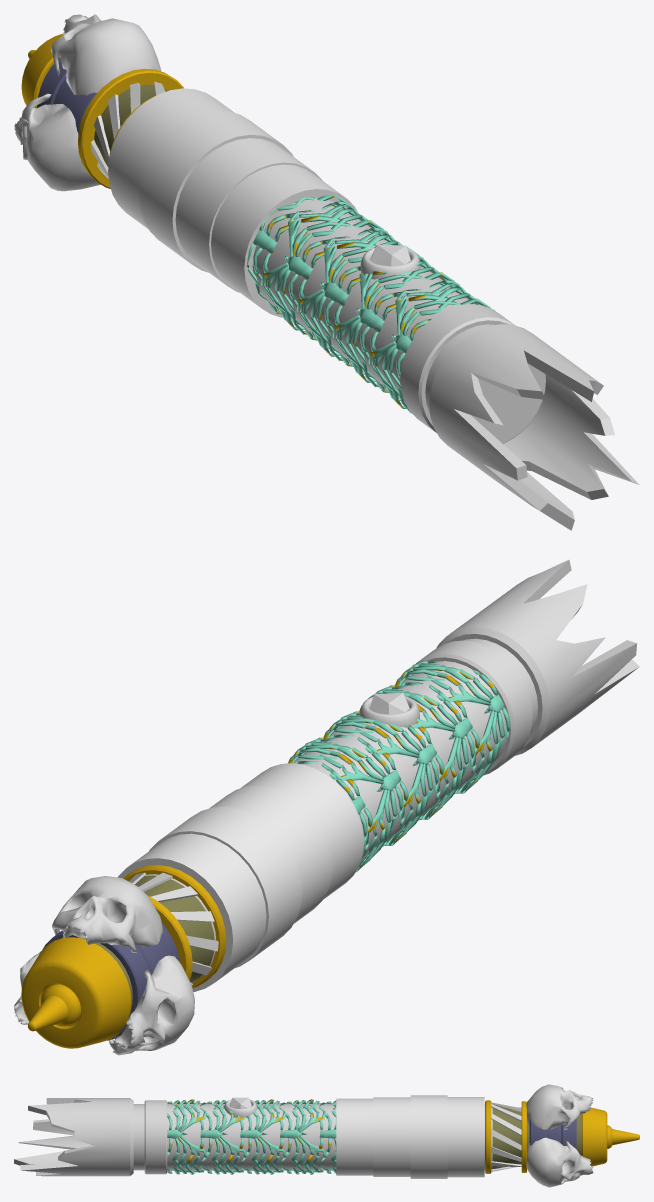
File: Netherblade.fbx
3 renders of one model, top to bottom at view 1: azimuth 30°, elevation 25°; view 2: azimuth 150°, elevation 25°; view 3: azimuth 270°, elevation 25°, orthographic. The views are drawn at different scales.
Parts seen in each view (by area): view 1: Cylinder, Cylinder.001, uploads_files_3260637_Ribcage_Retopology, Hilt Base, Skull_5_CM_skull_5, Pommel Base, Pommel Strips, Torus, Icosphere; view 2: Cylinder, Cylinder.001, Pommel Base, uploads_files_3260637_Ribcage_Retopology, Skull_5_CM_skull_5, Hilt Base, Pommel Strips, Torus, Icosphere; view 3: Cylinder, Cylinder.001, Hilt Base, uploads_files_3260637_Ribcage_Retopology, Pommel Base, Skull_5_CM_skull_5, Pommel Strips, Torus, Icosphere.
Part boxes in pixels (<box>): Cylinder: <box>108,88,357,317</box>; Cylinder.001: <box>400,304,639,530</box>; uploads_files_3260637_Ribcage_Retopology: <box>246,194,494,413</box>; Hilt Base: <box>252,198,545,443</box>; Skull_5_CM_skull_5: <box>14,14,161,191</box>; Pommel Base: <box>21,33,183,188</box>; Pommel Strips: <box>91,81,165,178</box>; Torus: <box>360,247,420,279</box>; Icosphere: <box>370,244,410,266</box>; Cylinder: <box>117,763,363,991</box>; Cylinder.001: <box>416,560,639,775</box>; Pommel Base: <box>21,865,226,1048</box>; uploads_files_3260637_Ribcage_Retopology: <box>287,660,510,872</box>; Skull_5_CM_skull_5: <box>14,876,194,1055</box>; Hilt Base: <box>144,638,537,982</box>; Pommel Strips: <box>129,872,218,985</box>; Torus: <box>359,696,419,727</box>; Icosphere: <box>369,692,409,714</box>; Cylinder: <box>336,1095,484,1178</box>; Cylinder.001: <box>14,1098,167,1176</box>; Hilt Base: <box>133,1104,492,1170</box>; uploads_files_3260637_Ribcage_Retopology: <box>167,1099,336,1174</box>; Pommel Base: <box>485,1100,639,1173</box>; Skull_5_CM_skull_5: <box>526,1084,593,1187</box>; Pommel Strips: <box>491,1102,521,1171</box>; Torus: <box>224,1099,256,1117</box>; Icosphere: <box>229,1097,251,1108</box>.
Bounding box in the file's own units: 295 × 275 × 1788.
